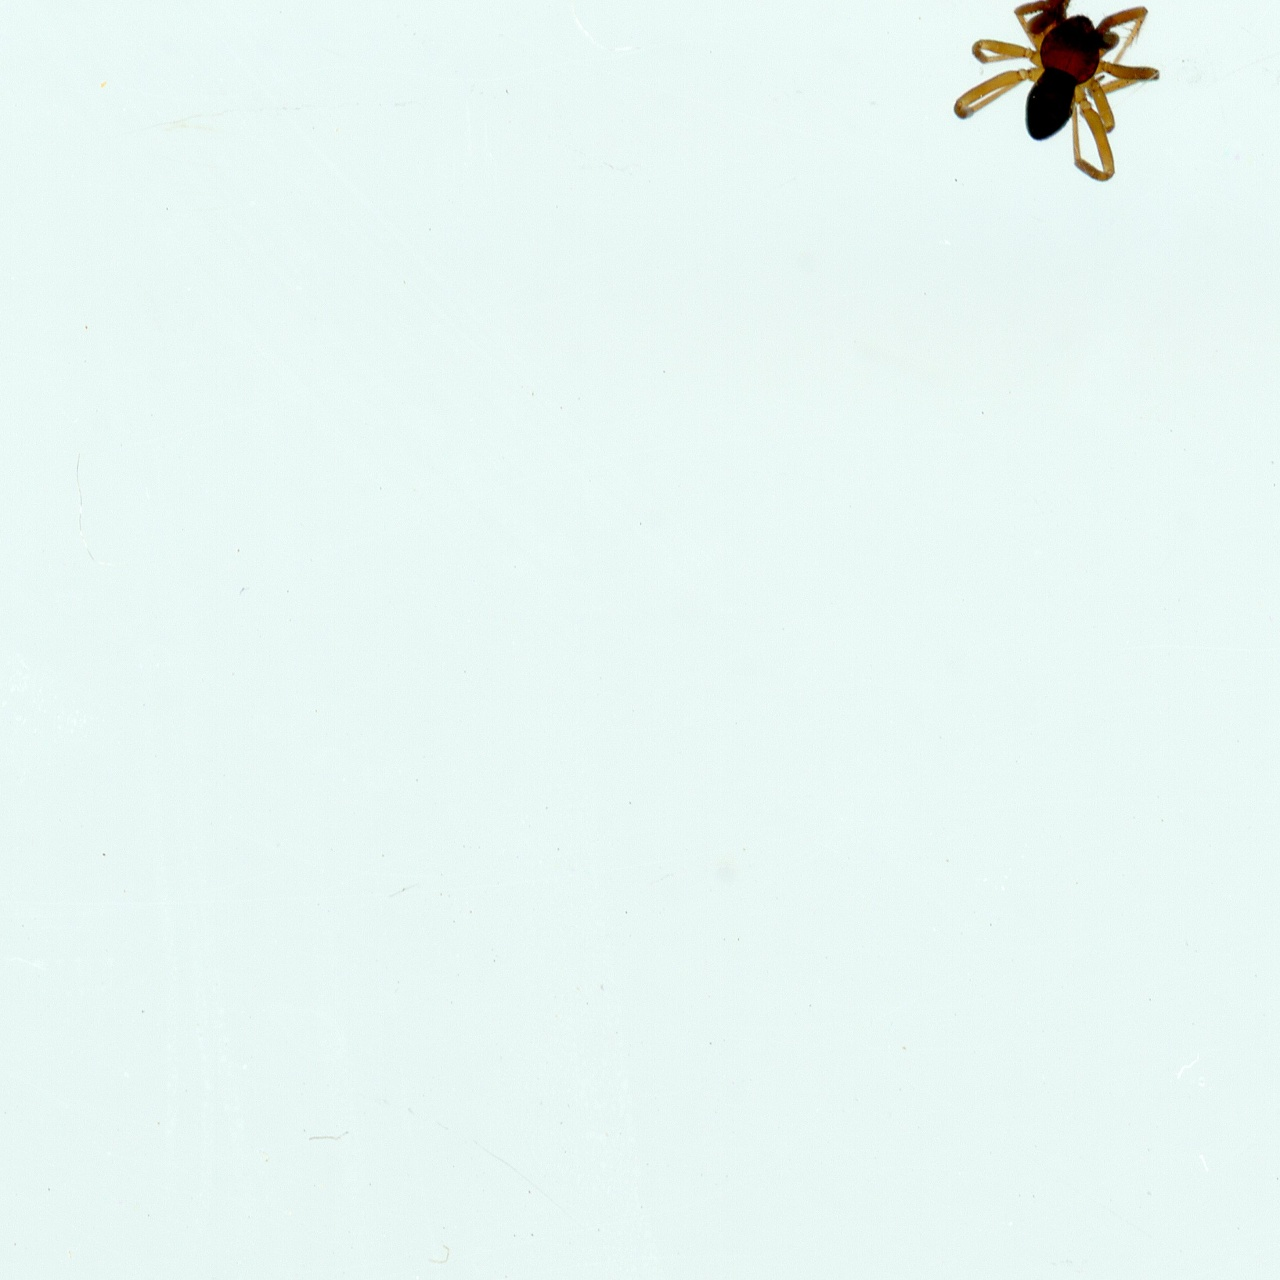arthropod: (915, 0, 1189, 207)
